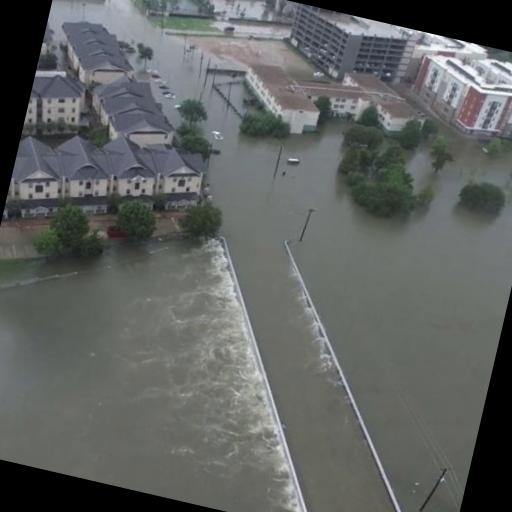flood: (47, 0, 512, 512), (0, 238, 303, 512)
house: (78, 98, 218, 215), (283, 2, 403, 86), (418, 47, 512, 149), (232, 56, 332, 146), (48, 12, 136, 92), (22, 59, 91, 143), (36, 6, 64, 70)
